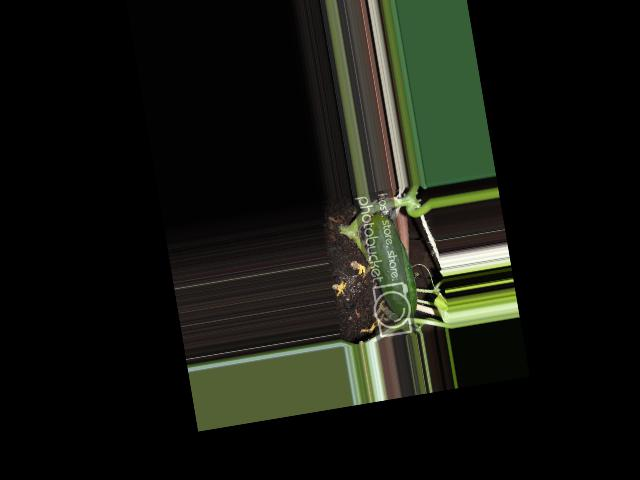cucumber: (363, 210, 420, 321)
